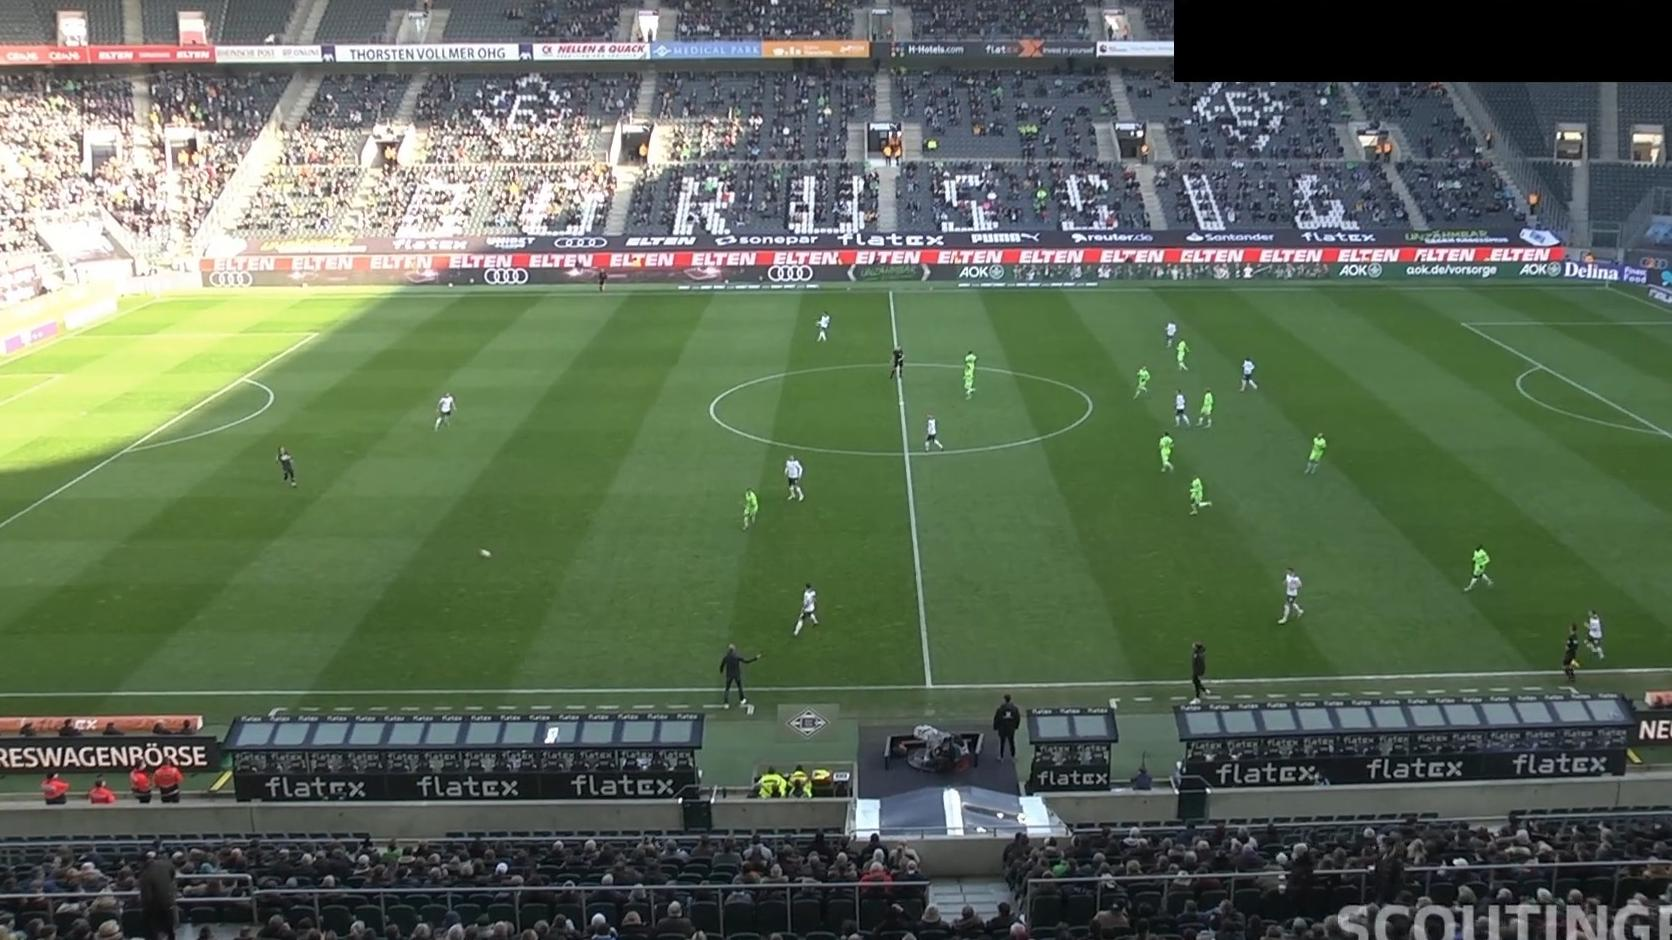ball: (478, 547, 492, 559)
